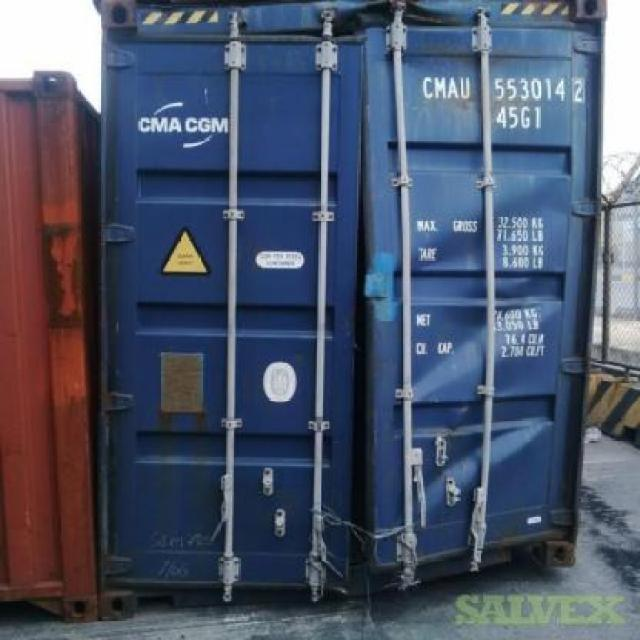Dent: (391, 425, 545, 531), (237, 0, 471, 32)
Minor-Dent: (400, 296, 560, 409)
